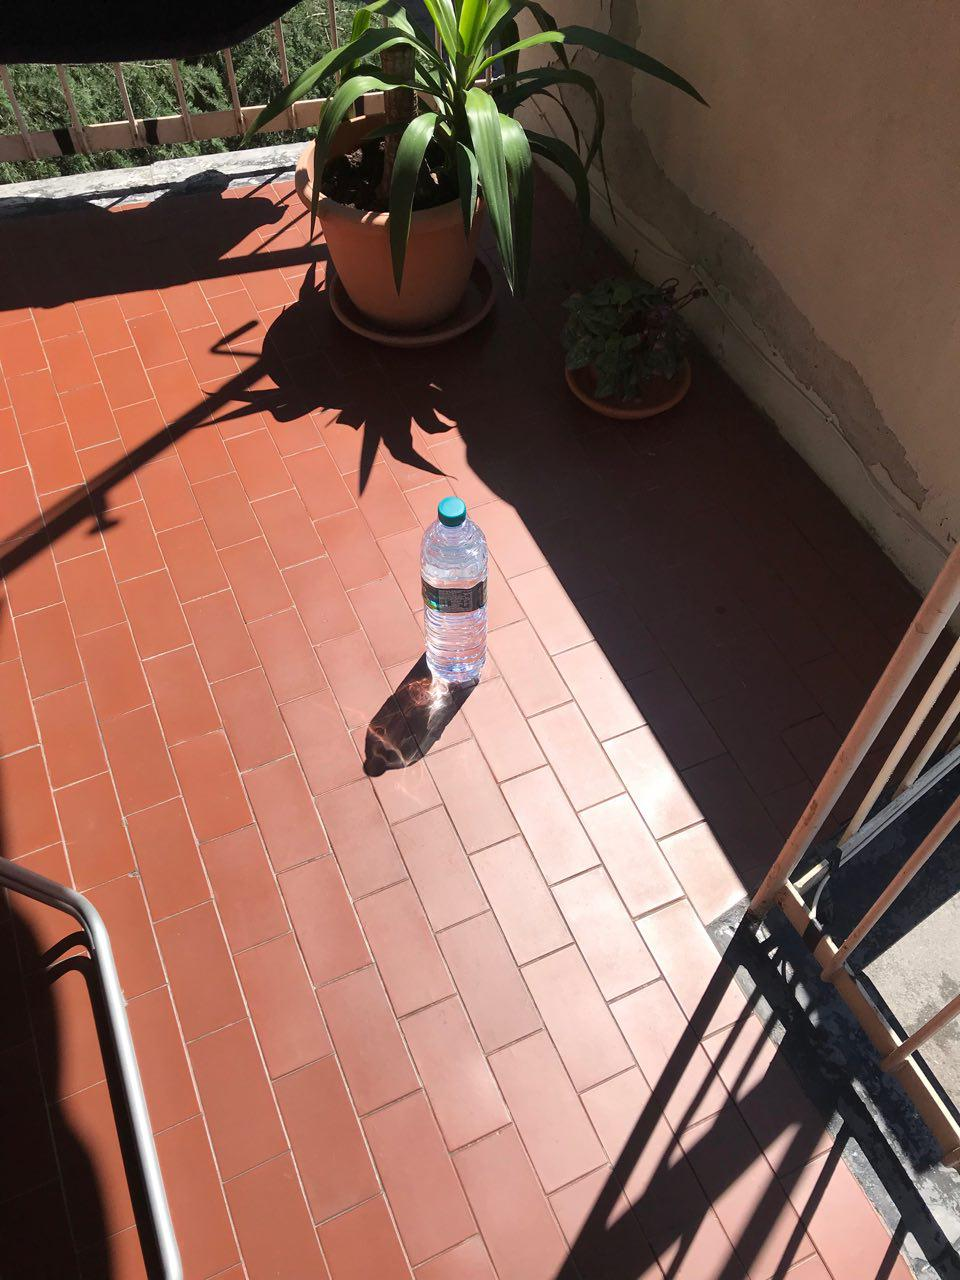san_bernardo: (419, 495, 488, 684)
